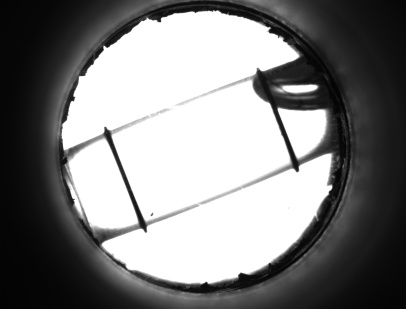line: (107, 153, 145, 210), (269, 118, 299, 150)
